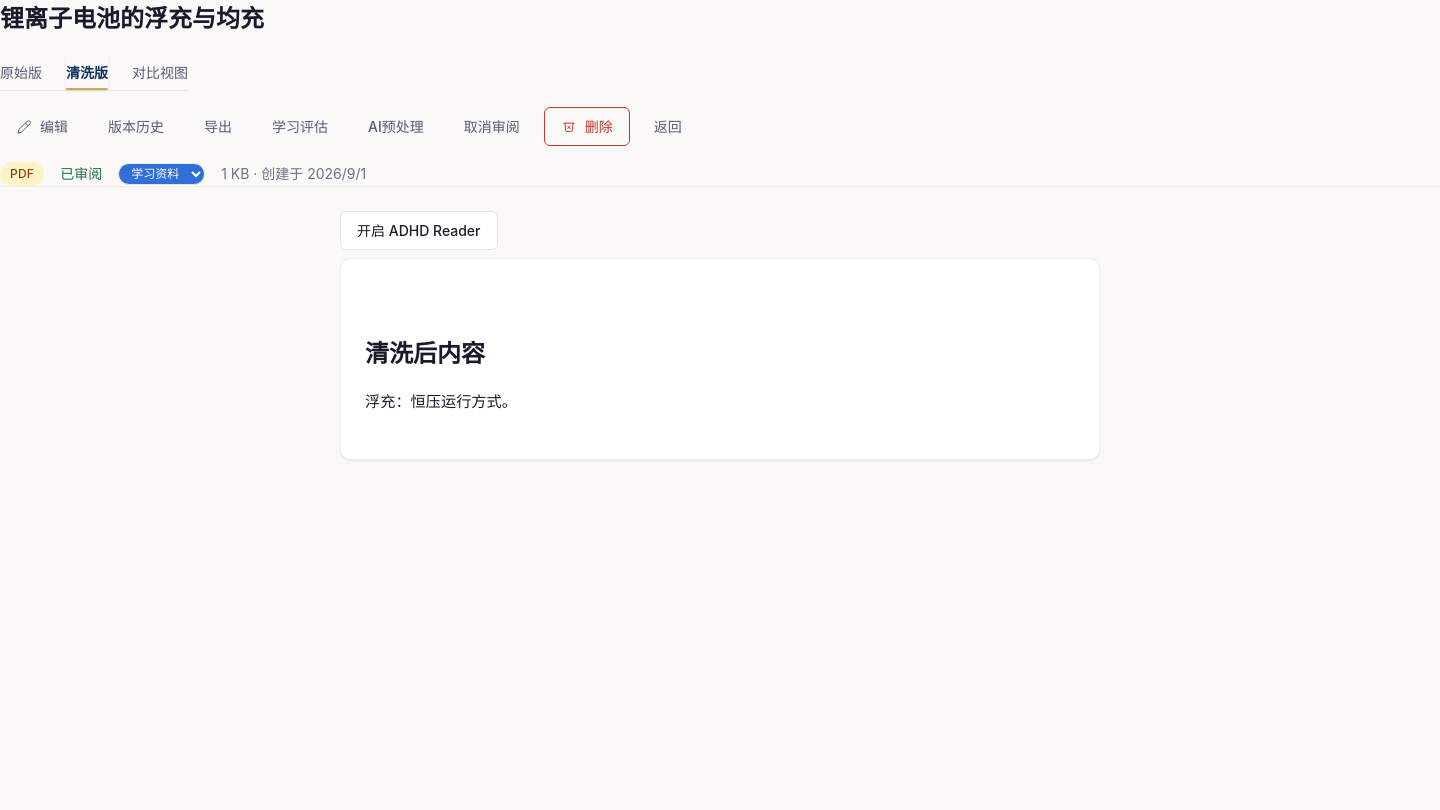
Scenario: 删除与重新理解 › 用户在二次确认里点"取消"时不发第二次请求（不可撤销的操作不能默认执行）
expect the heading "锂离子电池的浮充与均充" is shown: met, box [0,0,264,38]
Click the button "AI预处理" at (396, 127), box [352,108,440,145]
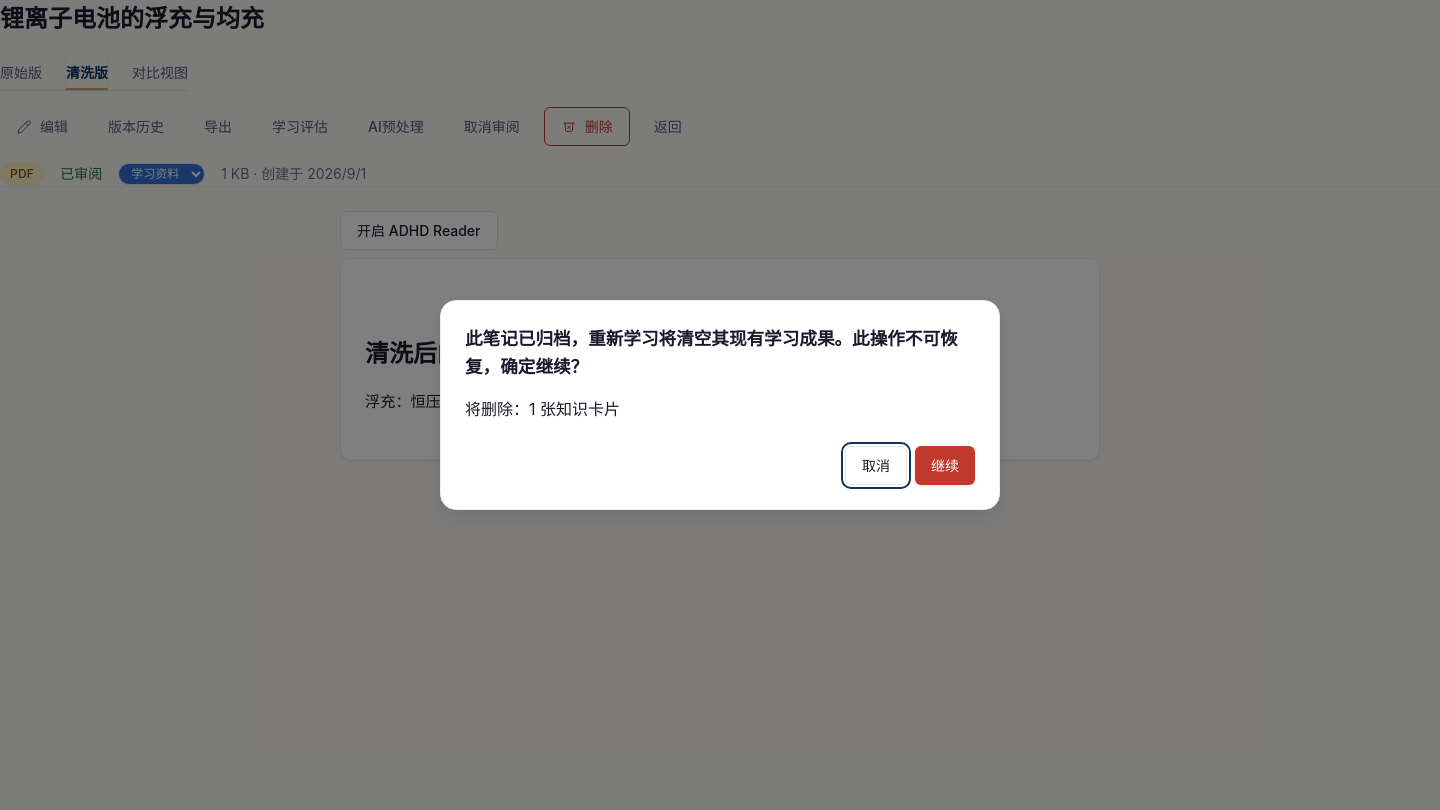
expect the dialog is shown: met, box [440,300,1000,510]
Click the button "取消" at (876, 466), box [845,446,907,485]
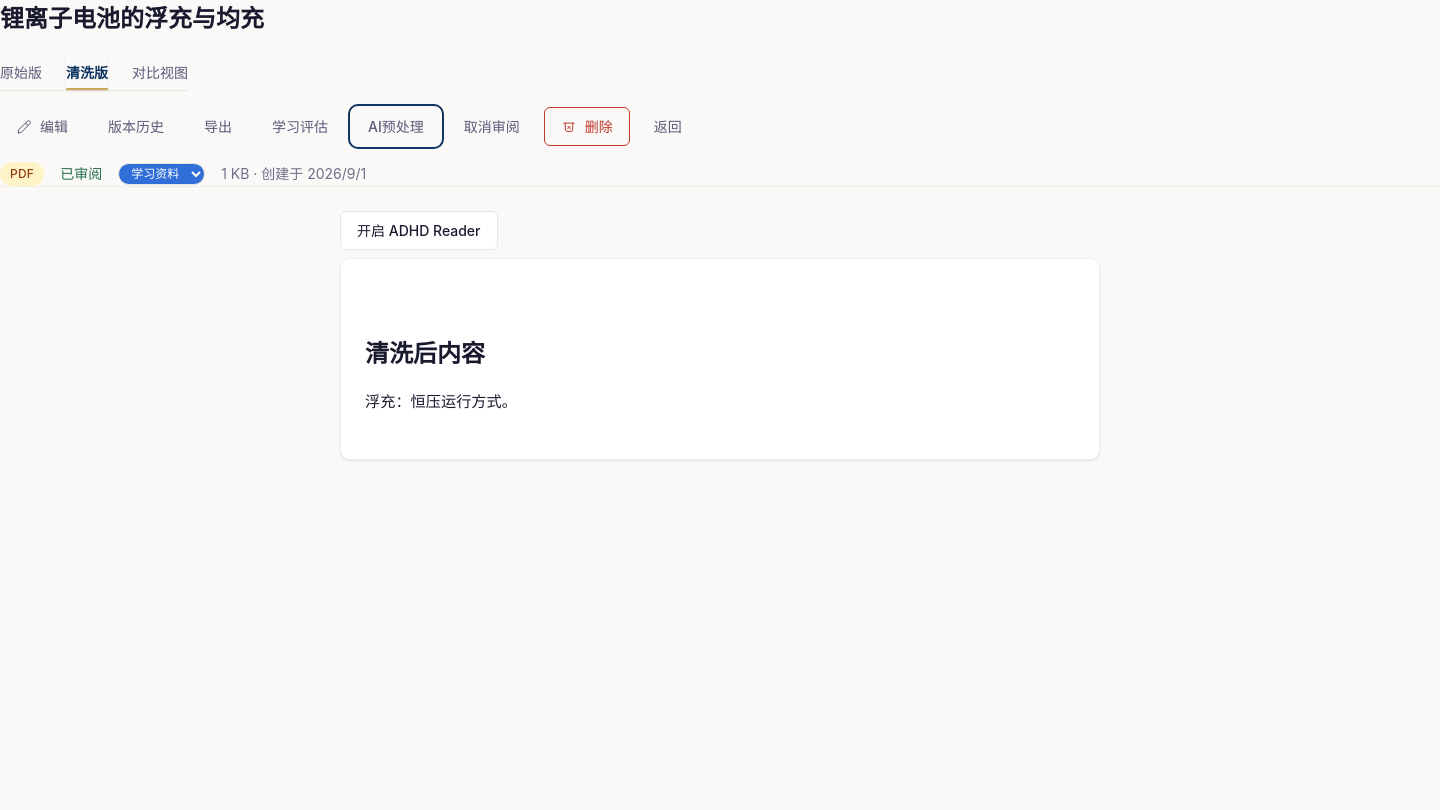
expect the dialog is gone: met
